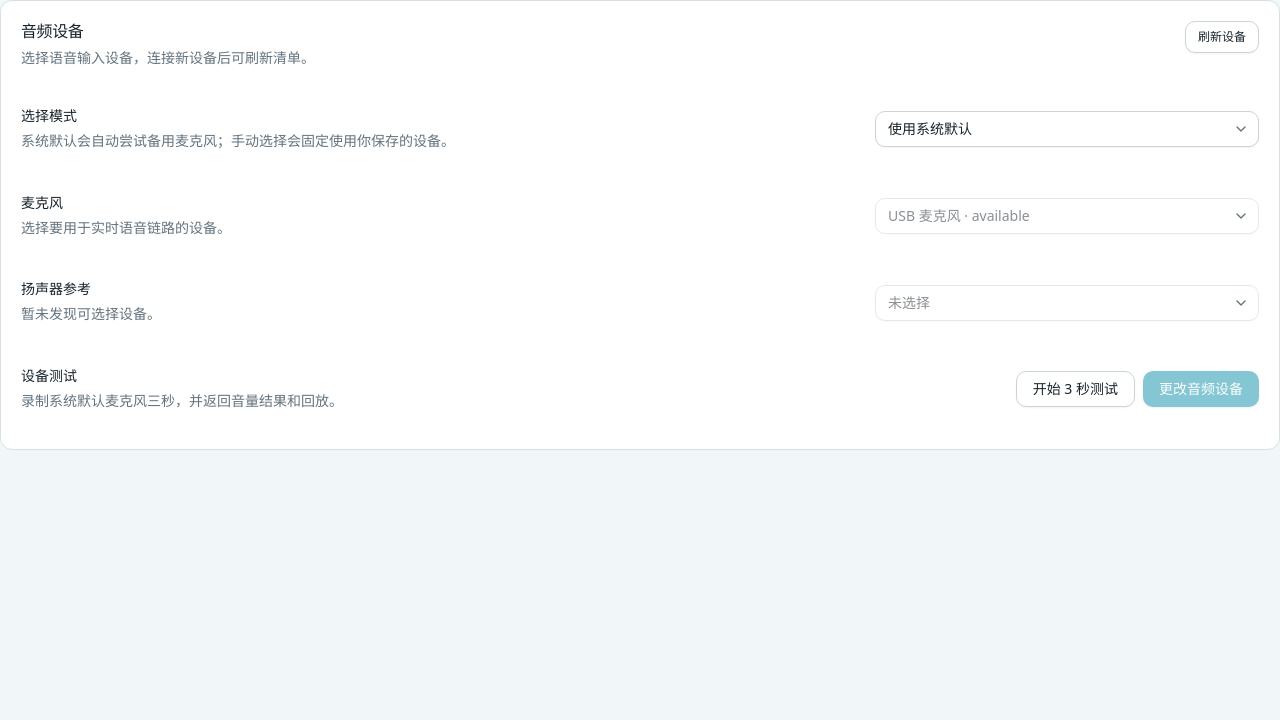
Test: AudioDeviceSettingsPanel › 保存已成功但旧 Backend 的快照回读失败时不误报设备写入失败
The width and height of the screenshot is (1280, 720).
Expected: the dropdown named "麦克风" shows "USB 麦克风 · available", [875,198,1259,234]
Select "手动选择设备" in the dropdown named "音频设备选择模式": [1067, 129] box [875,111,1259,147]
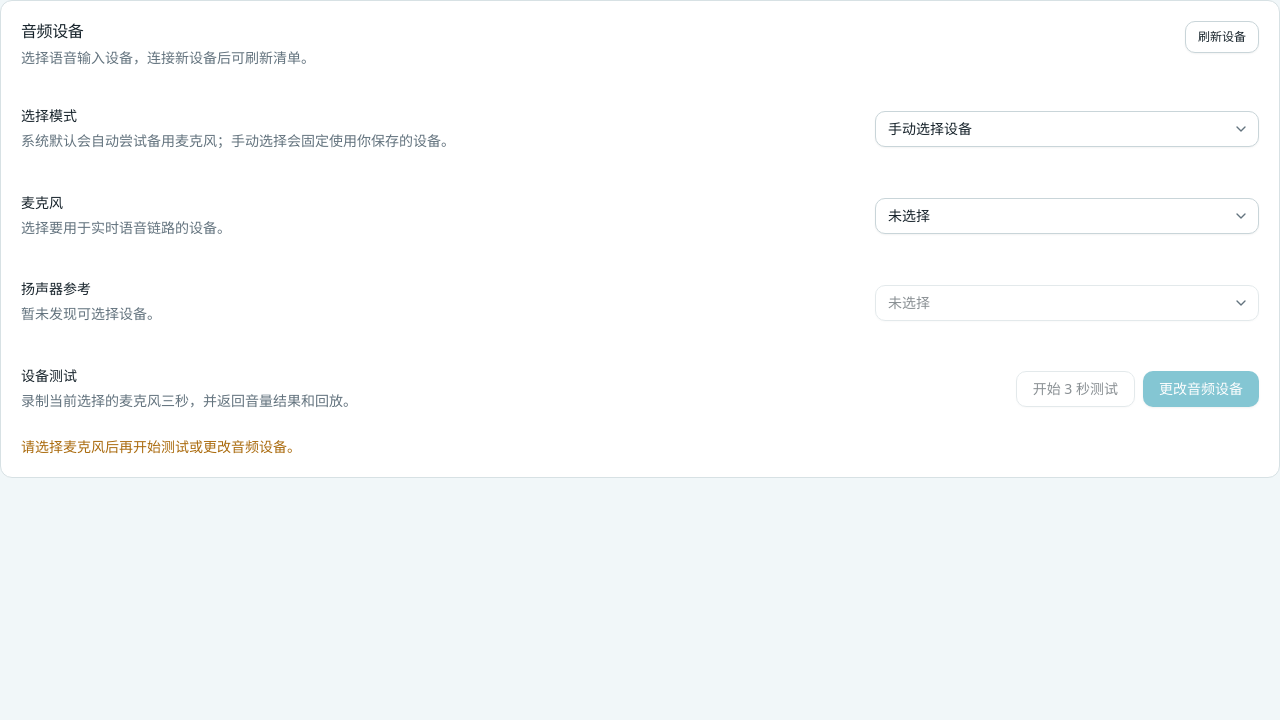
Select "USB 麦克风 · available" in the dropdown named "麦克风": [1067, 216] box [875,198,1259,234]
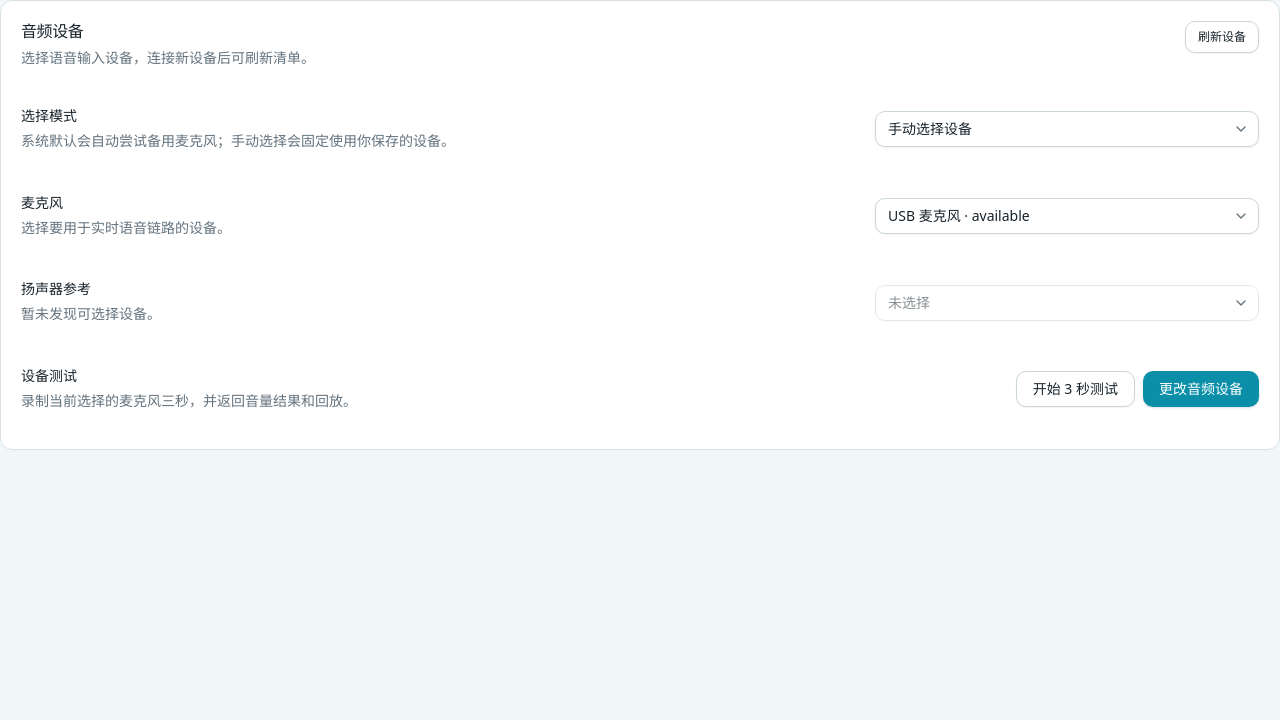
Click the button "更改音频设备": [1201, 389] box [1143,371,1259,407]
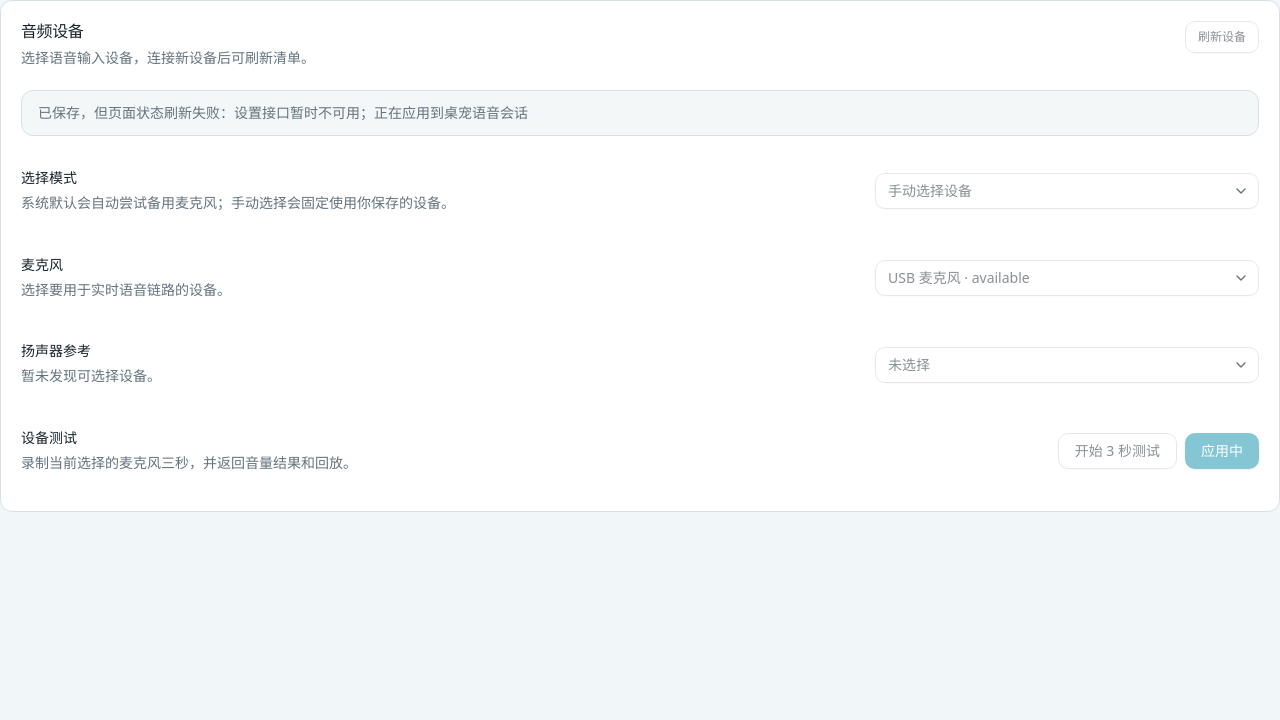
Expected: the text "已保存，但页面状态刷新失败：设置接口暂时不可用；正在应用到桌宠语音会话" is shown, [21,90,1259,136]
Expected: the button "应用中" is shown, [1185,433,1259,469]
